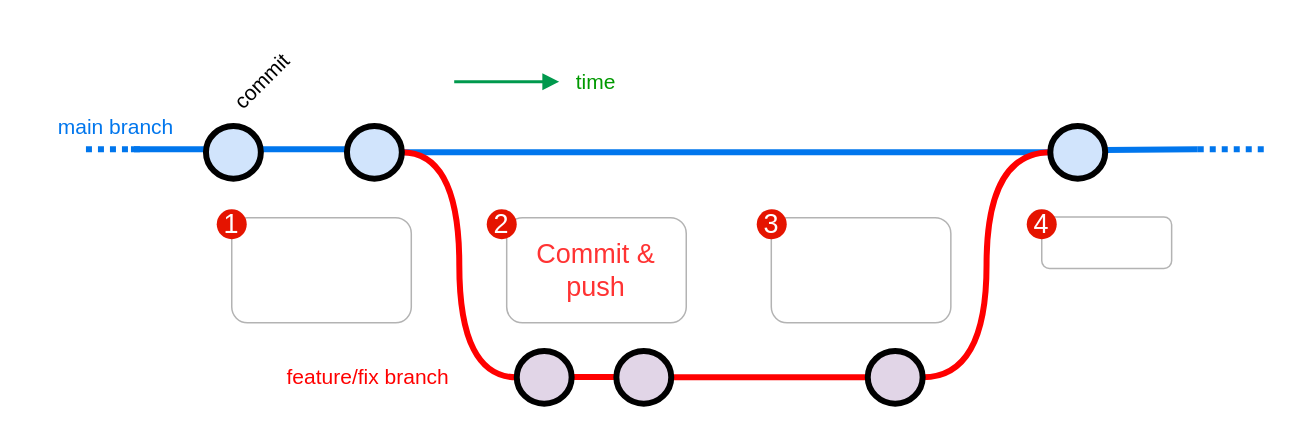
Some shapes in this 1298 by 432 pixel diagram are drawn without their labels. The box of each missing label's shape, as (x1, y1, x2, y2) in pixels:
Create issue & branch: (230, 216, 411, 323)
Merge: (1040, 215, 1172, 268)
Request PR review: (770, 216, 951, 323)
